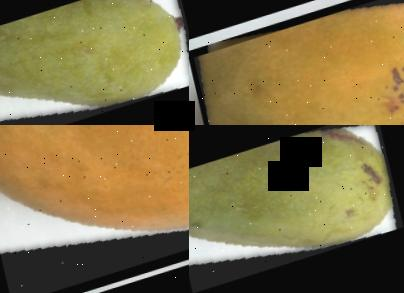PartiallyRipe: (0, 125, 189, 293), (189, 0, 404, 125)
Unripe: (189, 125, 404, 293), (0, 0, 189, 125)
